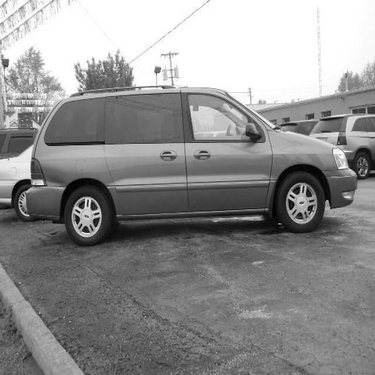car: (17, 73, 364, 248), (307, 105, 372, 179), (4, 121, 50, 223), (260, 109, 336, 163)
